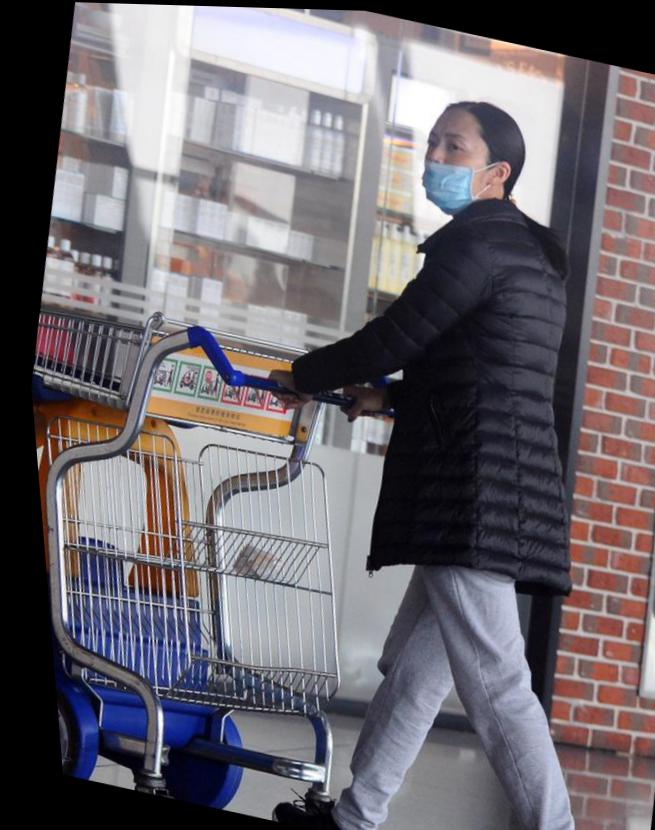WRONG: (409, 109, 489, 215)
